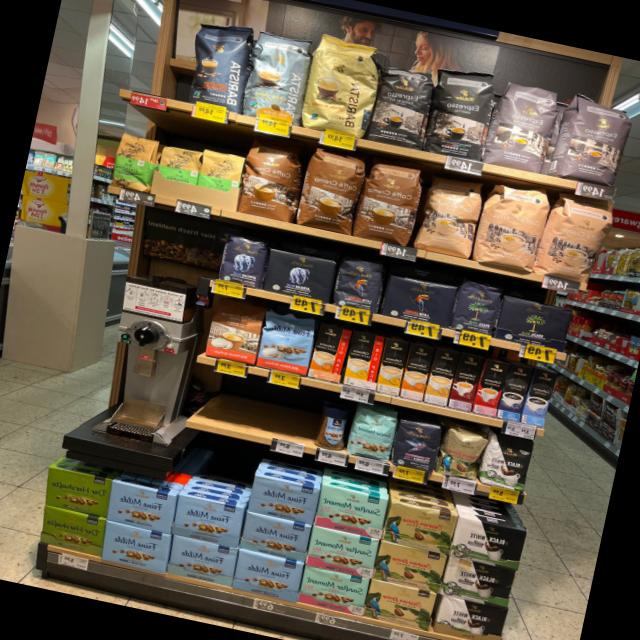AB Bohne: (212, 230, 270, 290)
AB Gemahlen: (260, 245, 338, 304)
Athiopien Bohne: (106, 128, 160, 192)
BM Bohne: (448, 276, 504, 340)
BM Gemahlen: (492, 292, 576, 353)
BW Bohne: (478, 432, 536, 493)
BW Gemahlen: (449, 515, 528, 571), (438, 555, 516, 608), (431, 593, 509, 640)
Barista CB: (297, 30, 383, 138)
Barista CC: (238, 27, 314, 126)
Barista Espresso: (180, 13, 254, 114)
C Fino Bohne: (388, 416, 442, 474)
CC Mild: (470, 176, 552, 275), (534, 190, 615, 288), (412, 169, 488, 261)
CC Vollmundig: (202, 295, 266, 367)
CC Vollmundig 36 Pads: (292, 144, 368, 238), (233, 130, 307, 224), (352, 157, 428, 248)
Colombia BB Bohne: (434, 426, 488, 484)
Colombia BB Gemahlen: (380, 500, 458, 555), (362, 578, 438, 631), (372, 541, 446, 593)
Empty Shelf: (183, 363, 320, 445)
Espresso Kraftig: (420, 61, 498, 162)
Espresso M Art: (548, 88, 639, 190), (481, 75, 565, 176)
Espresso S Art: (364, 59, 438, 152)
FM 36 Pads: (254, 307, 318, 377)
FM Gemahlen: (170, 493, 244, 548), (230, 548, 304, 602), (246, 472, 320, 524), (105, 481, 177, 534), (100, 520, 172, 573), (238, 511, 312, 562), (166, 535, 238, 587)
FM Instant: (310, 403, 352, 452)
Herzhatfe Mundig: (40, 466, 111, 517), (36, 506, 106, 556)
LG Bohne: (329, 252, 387, 314)
LG Gemahlen: (378, 270, 459, 330)
SM Bohne: (344, 404, 398, 463)
SM Gemahlen: (304, 524, 379, 578), (314, 484, 388, 538), (296, 566, 370, 616)
Simo CCMild: (343, 330, 385, 390)
Simo CCMild bigpack: (376, 338, 410, 396)
Simo CCVollmundig: (307, 323, 352, 383)
Simo CCVollmundig bigpack: (399, 342, 434, 401)
Simo Decaff: (423, 346, 459, 406)
Simo Es Brazil: (472, 358, 509, 418)
Simo Es Caramel: (448, 351, 484, 412)
Simo Es Kraft: (497, 362, 534, 423)
Simo Es Vanilla: (520, 366, 557, 428)
